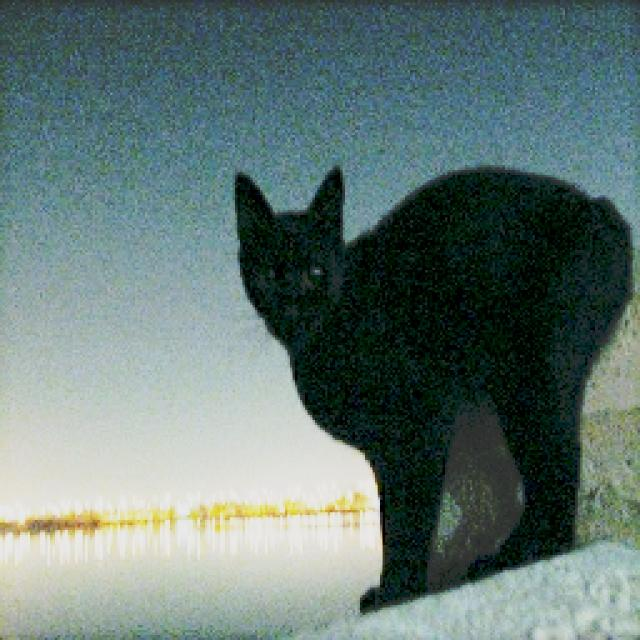cat: (219, 147, 637, 606)
